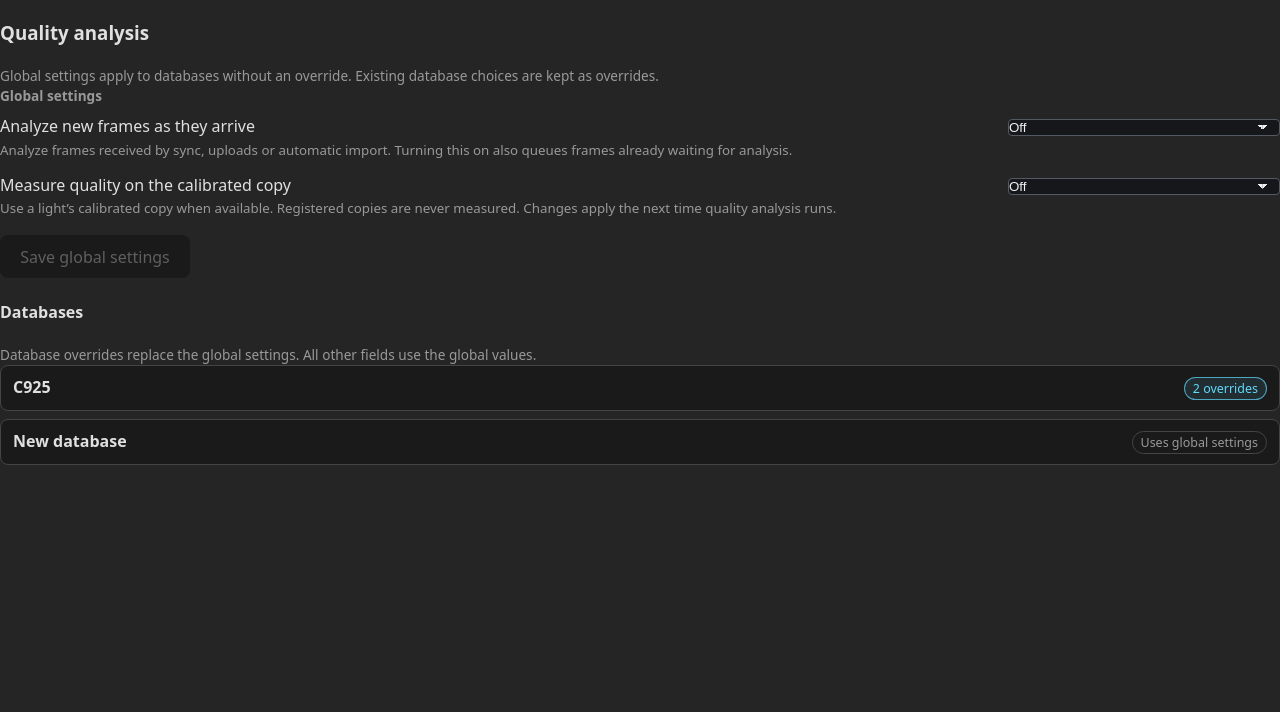
Test: Shared processing settings › resets all displayed quality overrides only when the database is saved
Click the button "C925 2 overrides" at (32, 387), box [1, 366, 1279, 410]
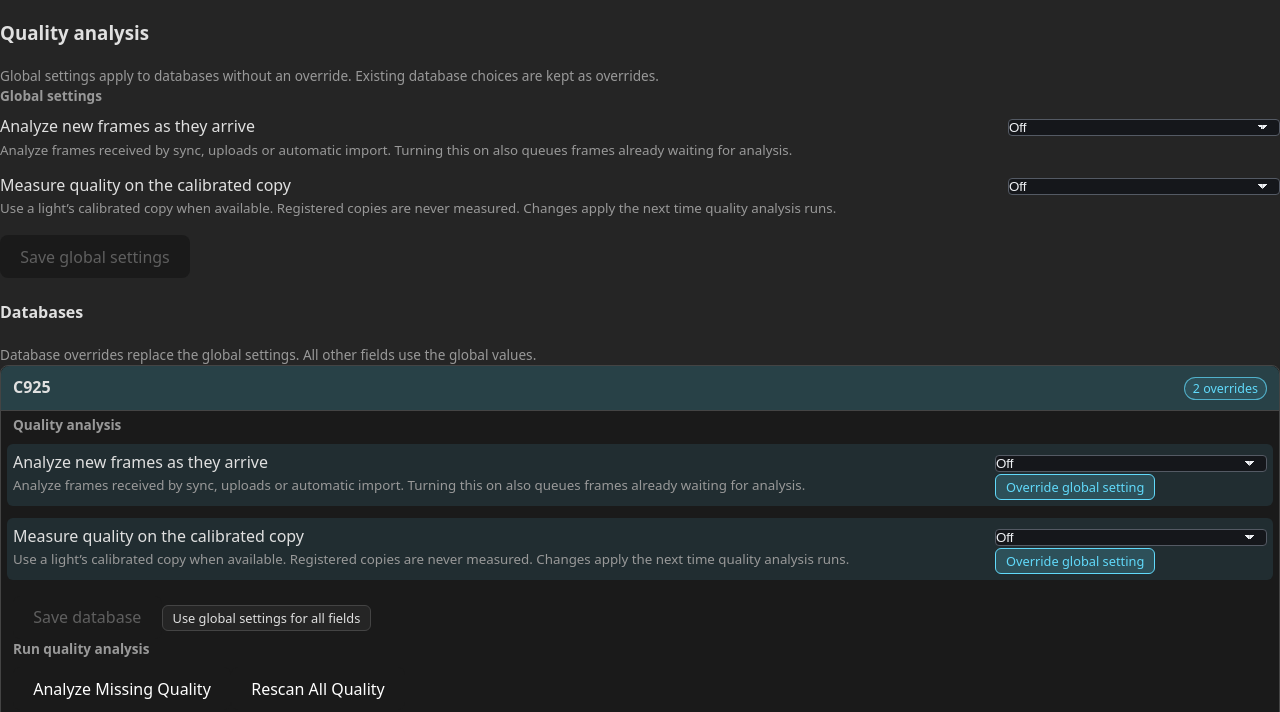
Click the button "Use global settings for all fields" at (266, 618), box [162, 605, 371, 631]
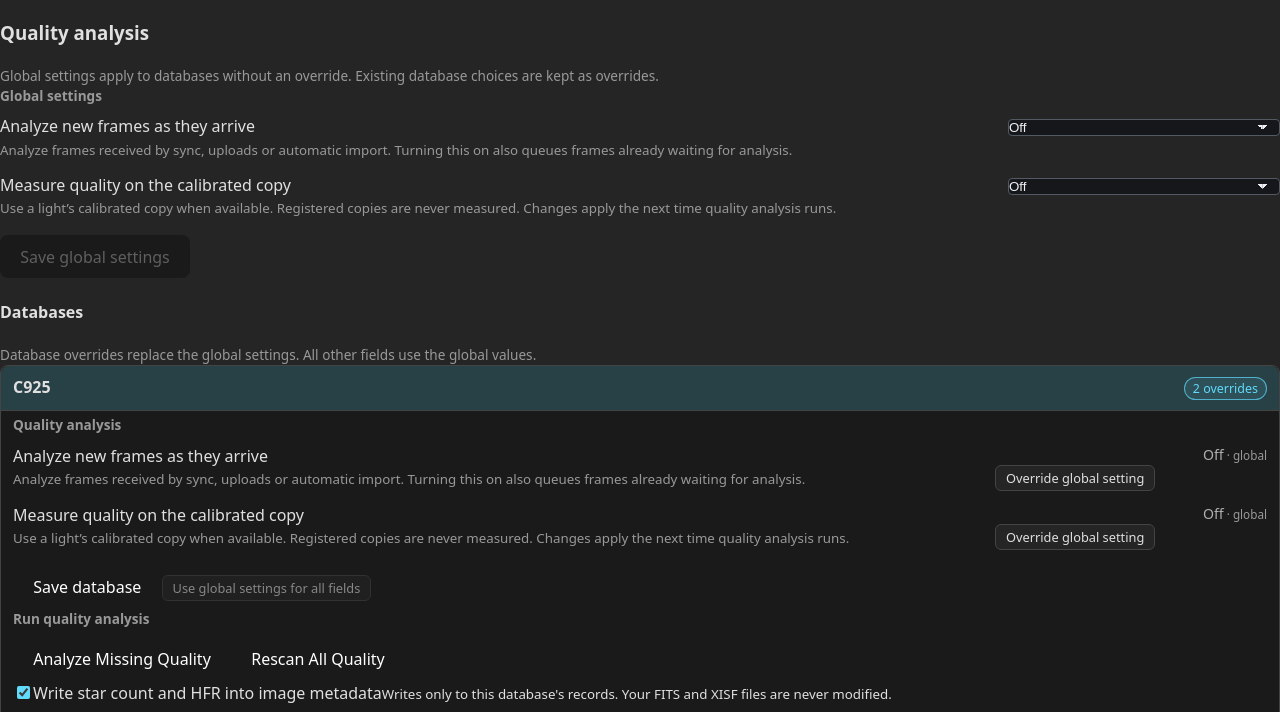
Check: the text "· global" is shown 2 times, box [1224, 446, 1267, 462]; [1224, 506, 1267, 522]
Click the button "Save database" at (87, 587), box [13, 566, 162, 609]
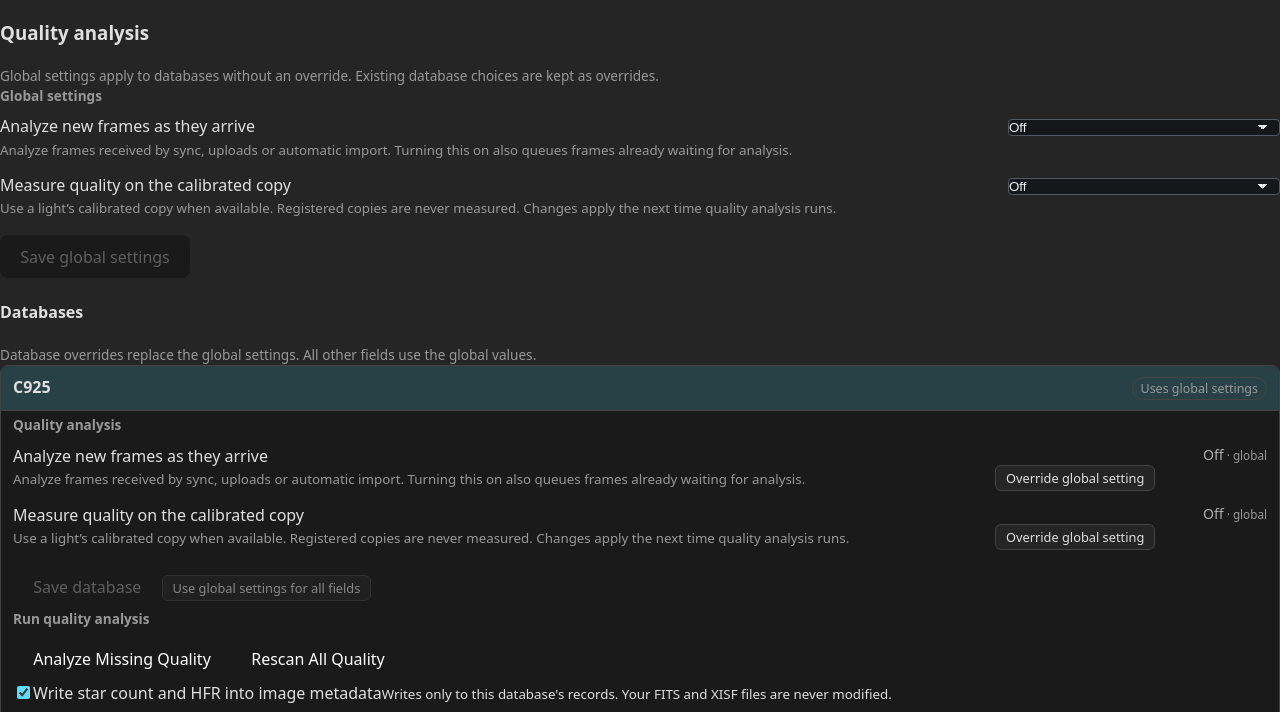
Check: the button "C925 Uses global settings" is shown, box [1, 366, 1279, 410]
